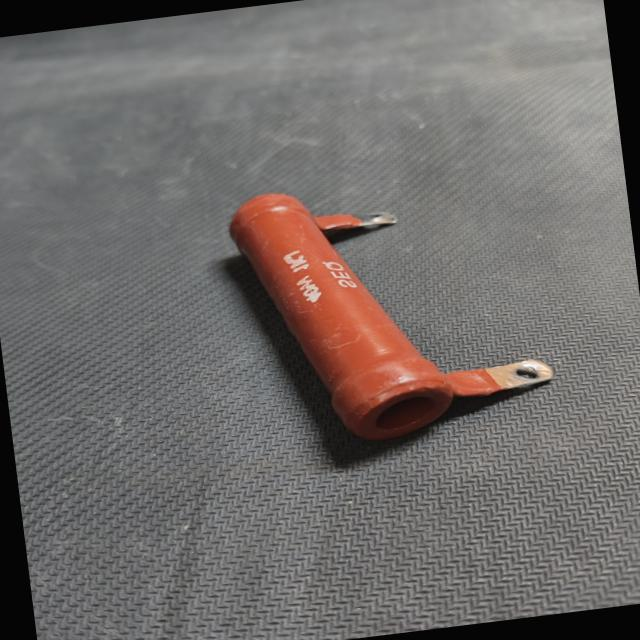resistor: (207, 152, 572, 478)
